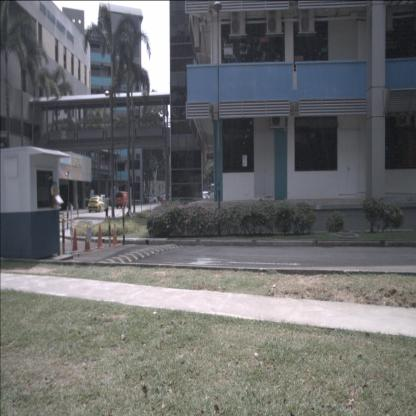human-pedestrian-adult: (104, 193, 109, 221), (160, 194, 164, 209)
movable_object-trafficcone: (95, 224, 105, 249), (83, 226, 92, 252), (111, 223, 119, 247), (72, 227, 78, 252)
vehicle-car: (88, 196, 106, 213), (115, 191, 130, 209), (194, 192, 212, 206), (98, 194, 110, 209), (144, 193, 158, 204)
vehicle-truck: (209, 180, 242, 204)
